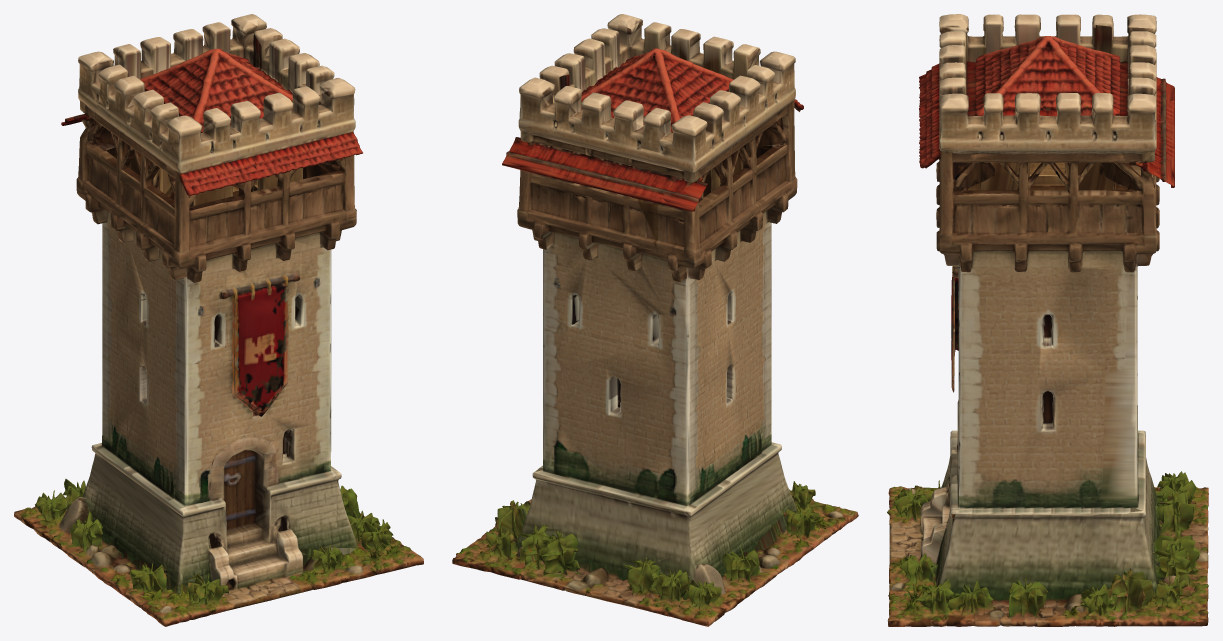
Rendered from SM_TorreDeVigilancia.fbx.
3 renders of one model, left to right at view 1: azimuth 30°, elevation 25°; view 2: azimuth 150°, elevation 25°; view 3: azimuth 270°, elevation 25°, orthographic. The views are drawn at different scales.
Parts seen in each view (by area): view 1: SM_TorreDeVigilancia; view 2: SM_TorreDeVigilancia; view 3: SM_TorreDeVigilancia.
Part boxes in pixels (x1,y1,x2,y2): SM_TorreDeVigilancia: [14, 14, 423, 626]; SM_TorreDeVigilancia: [452, 14, 858, 626]; SM_TorreDeVigilancia: [887, 14, 1208, 626].
Bounding box in the file's own units: 98.83 × 179 × 99.9.
Materials: 1 (1 with a texture image).
